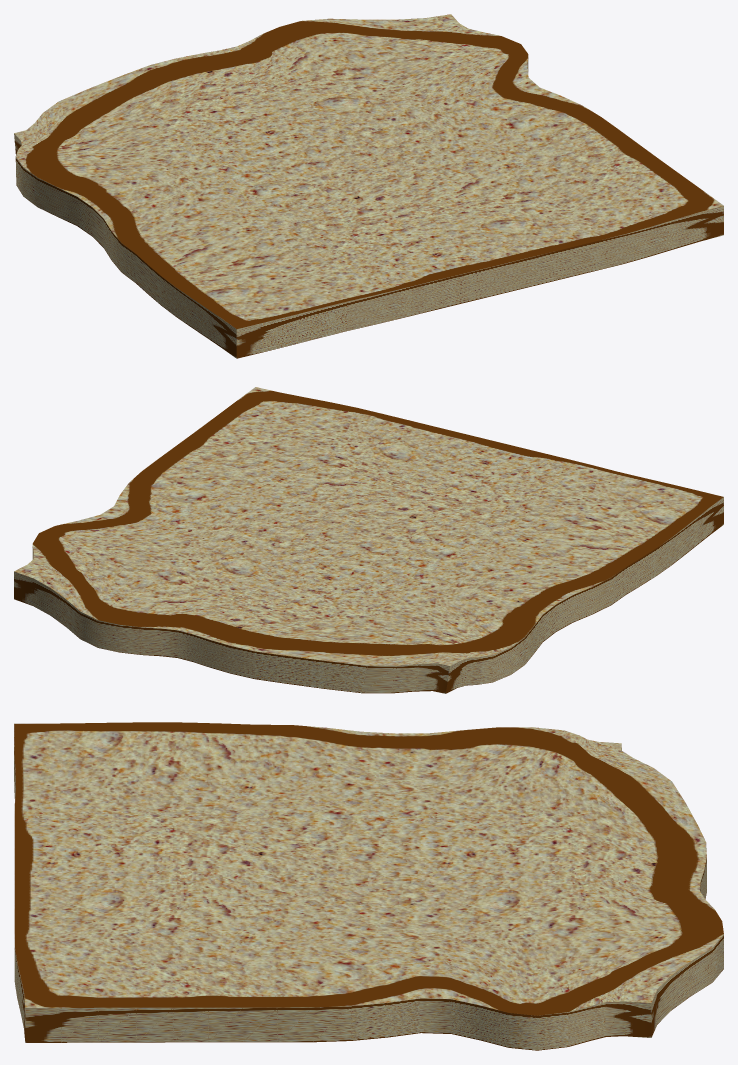
The model's file is Bread.FBX.
The picture shows the model from 3 angles, top to bottom: view 1: azimuth 30°, elevation 25°; view 2: azimuth 150°, elevation 25°; view 3: azimuth 270°, elevation 25°; orthographic projection. The views are drawn at different scales.
Visible parts, largest first — view 1: Box001; view 2: Box001; view 3: Box001.
Boxes of the visible parts, left/top/right/bottom form: Box001: left=14, top=14, right=723, bottom=358; Box001: left=14, top=387, right=723, bottom=693; Box001: left=14, top=722, right=723, bottom=1050.
Size of the model in its own units: 90.16 by 5 by 92.17.
